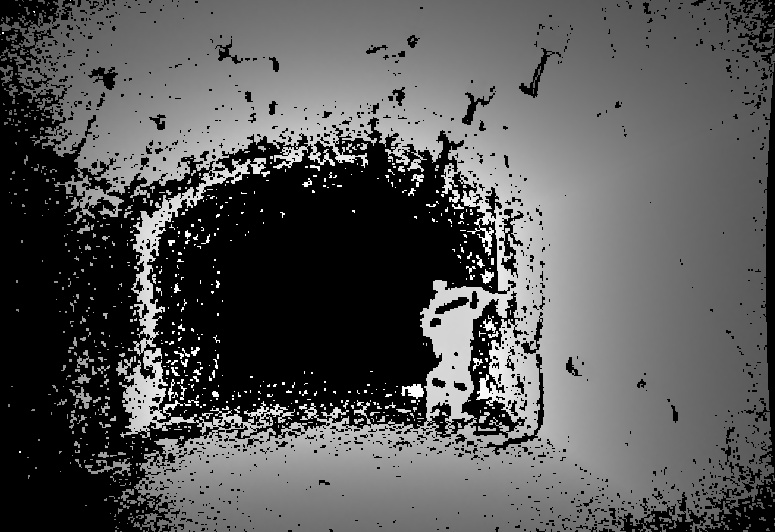person: (419, 279, 497, 415)
